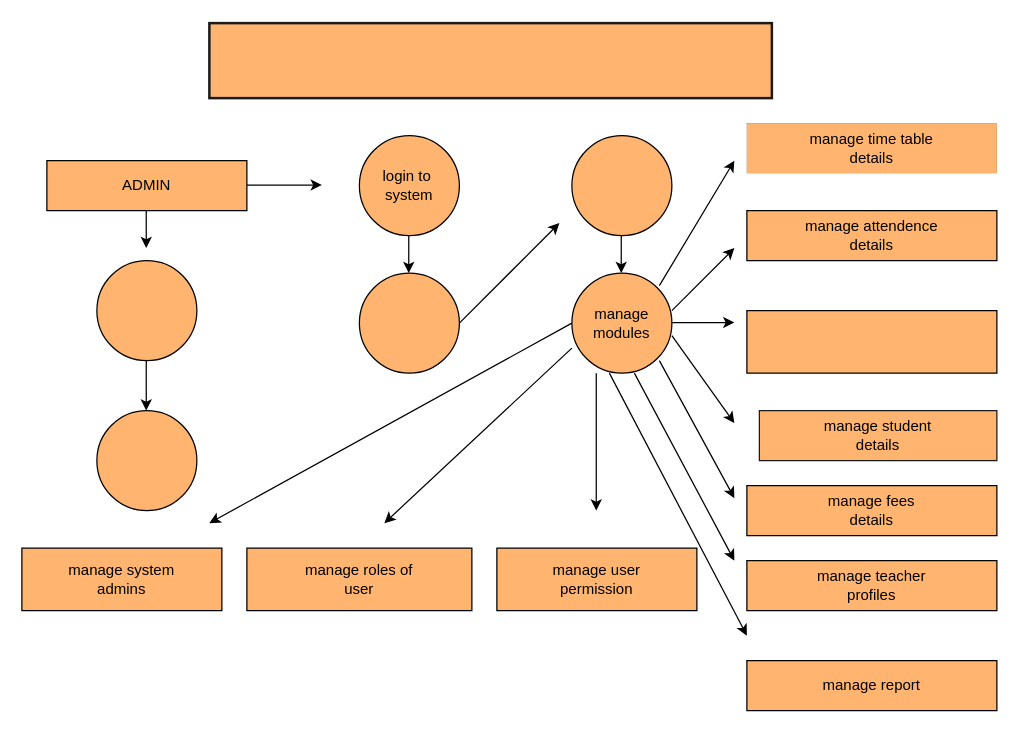
The diagram is 1019 pixels wide and 733 high, and some of its shapes have lost their labels. The centre of each missing label's shape, as x and y in pixels:
"check credentials" belongs at point 408,322.
"check roles of access" belongs at point 621,185.
"forgot password" belongs at point 146,310.
"manage class details" belongs at point 871,341.
"send email to user" belongs at point 146,460.
"STUDENT INFORMATION SYSTEM" belongs at point 490,60.
